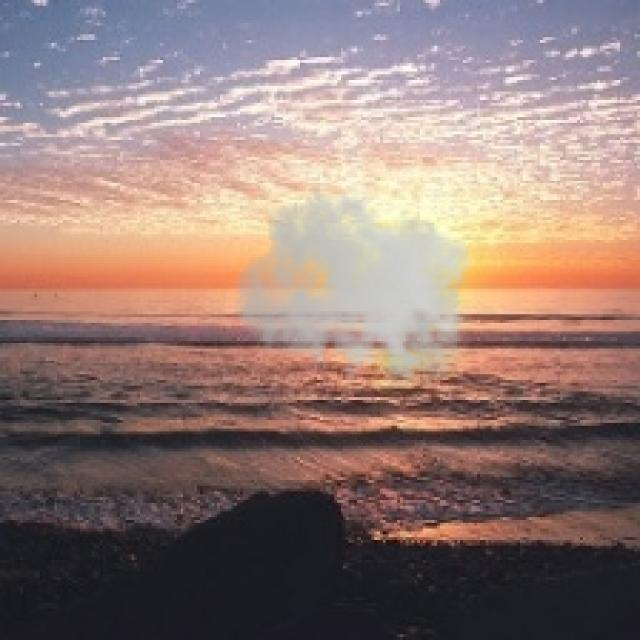smoke: (234, 186, 480, 394)
